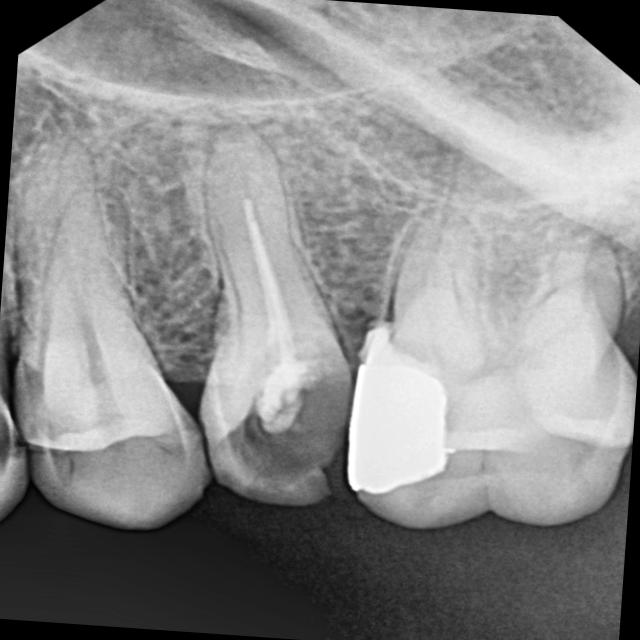RCT: (177, 166, 347, 494)
Restoration: (319, 294, 494, 514)
